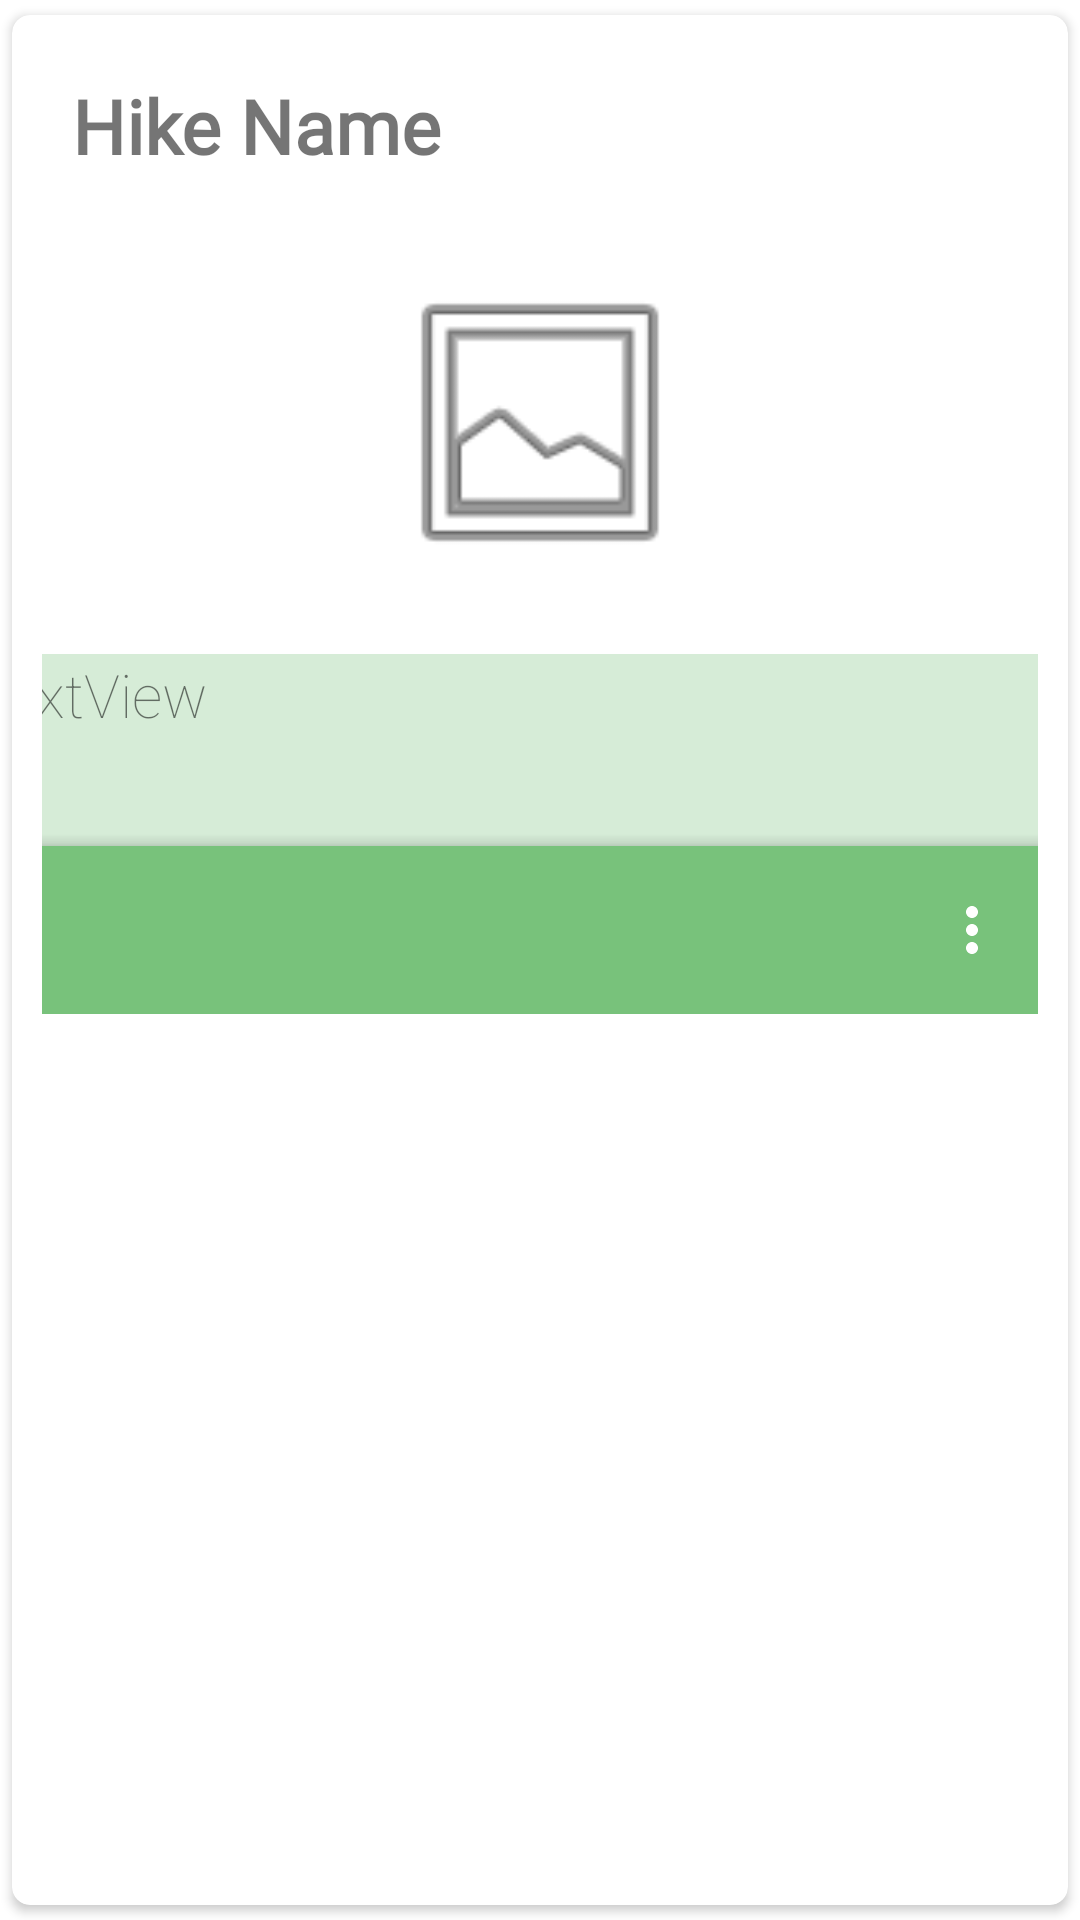

Named icons in this screenshot (1080x1920) and their bounding boxes, rect(x1, y1, x2, y2):
gallery: rect(421, 303, 659, 542)
